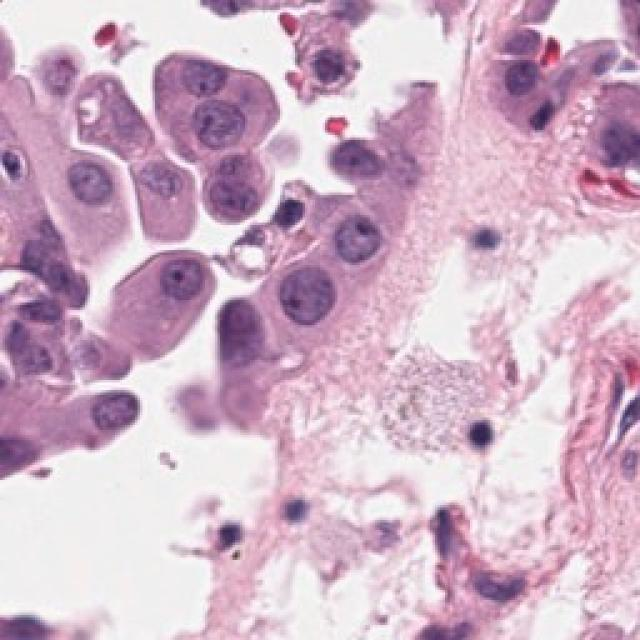abnormal: (276, 12, 365, 105), (141, 235, 232, 319), (45, 137, 124, 231), (66, 366, 143, 459), (316, 201, 391, 295), (310, 120, 398, 193), (273, 259, 344, 345), (483, 45, 553, 131), (590, 78, 640, 190), (180, 105, 270, 163), (141, 146, 202, 231), (157, 33, 226, 99)
